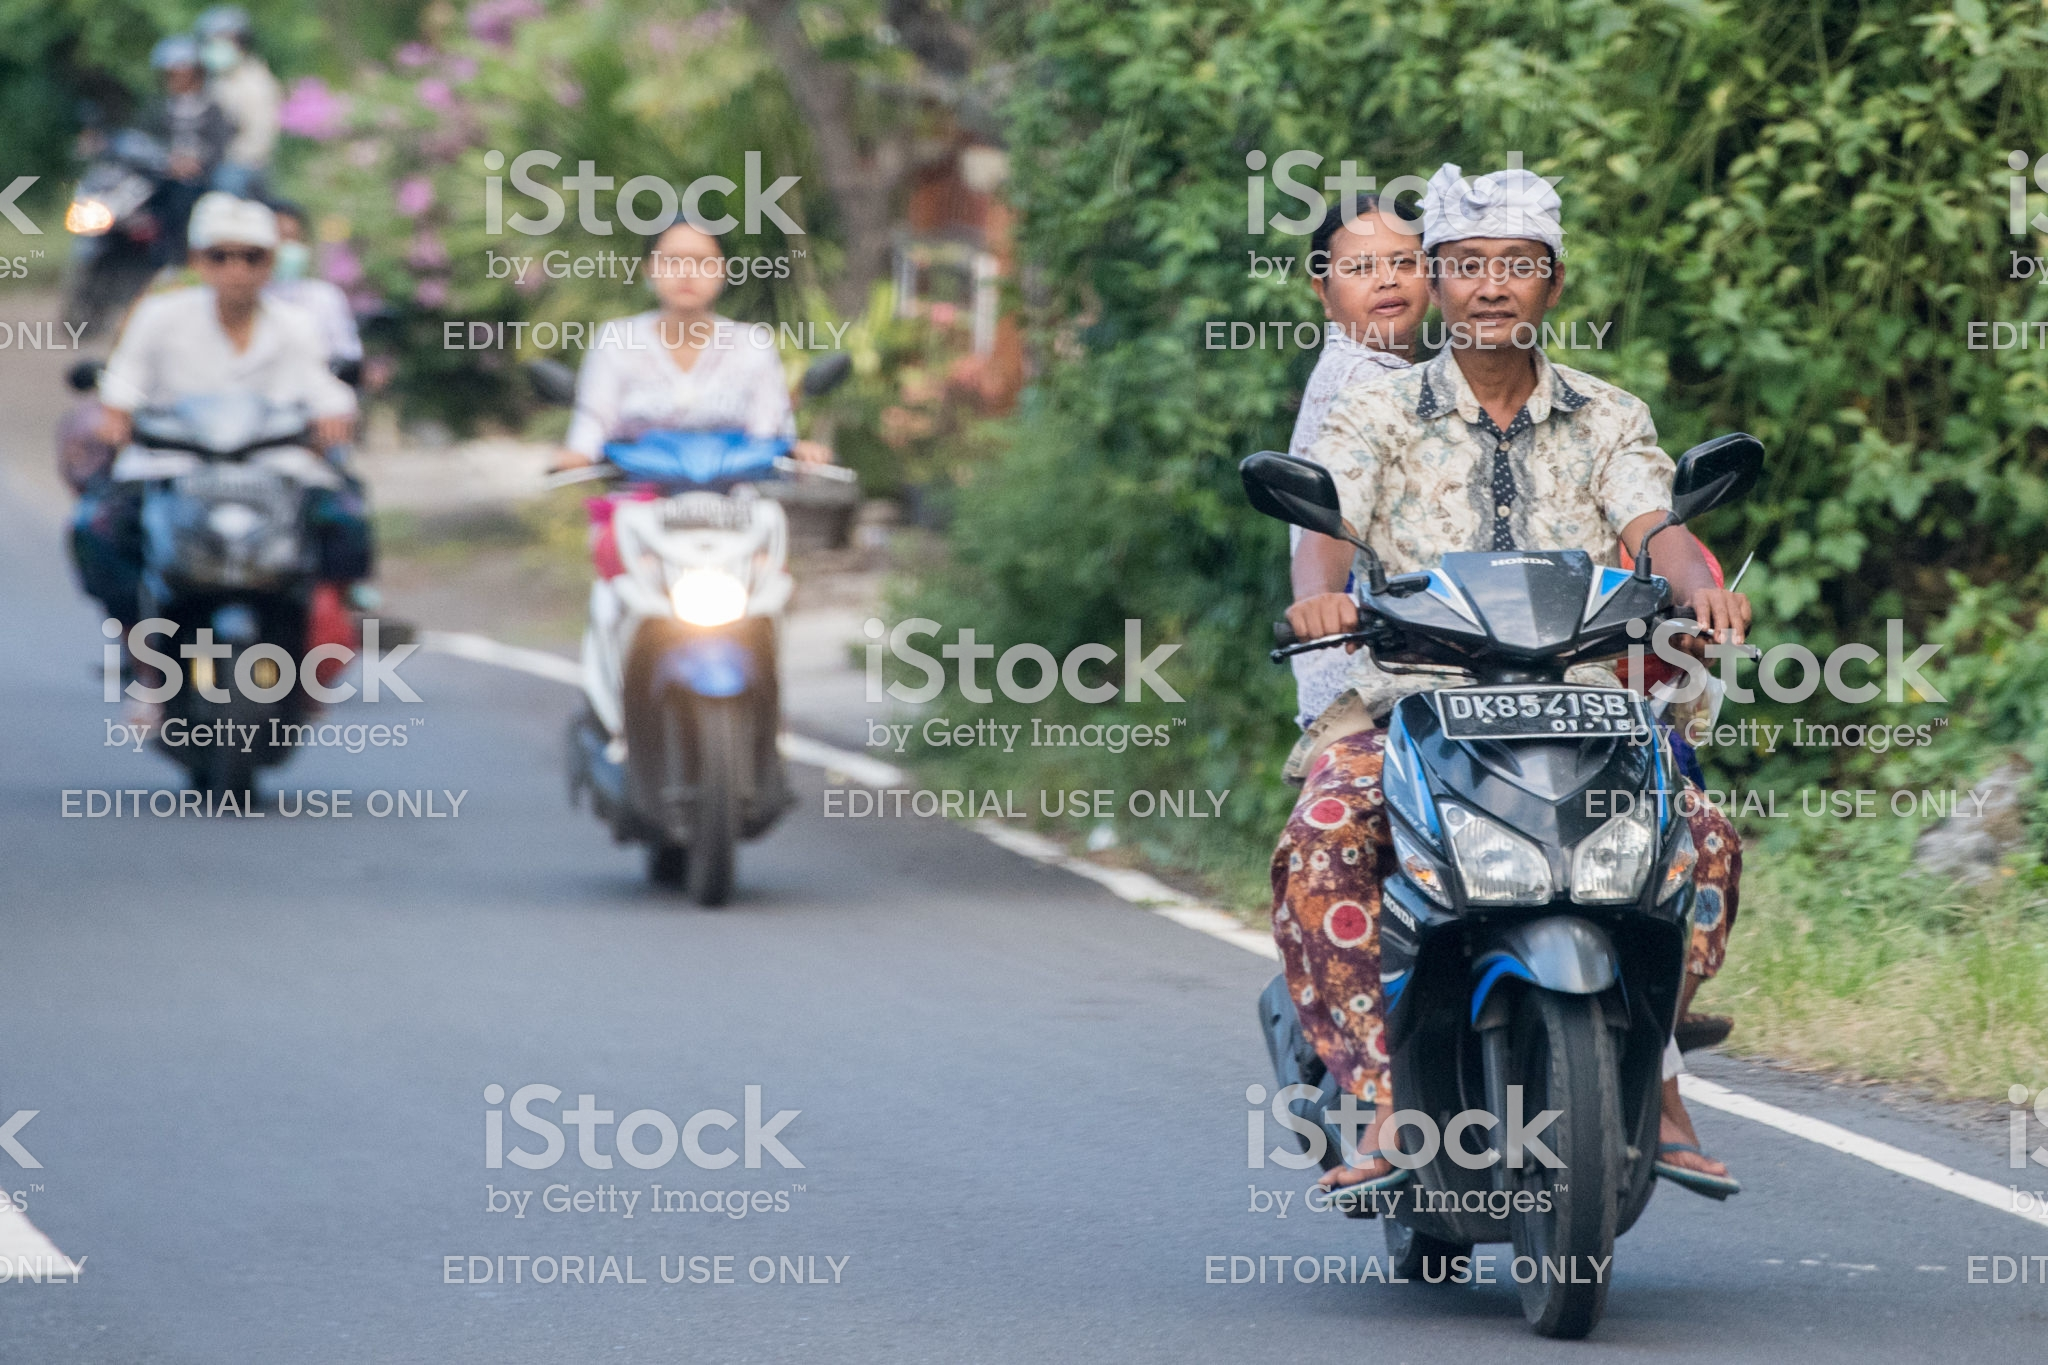helmet: (1421, 168, 1571, 254)
